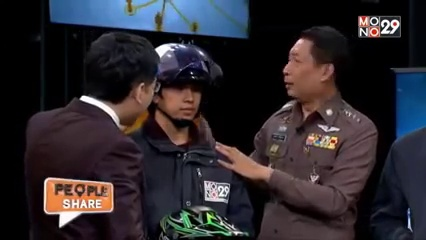helmet: (158, 40, 218, 86)
